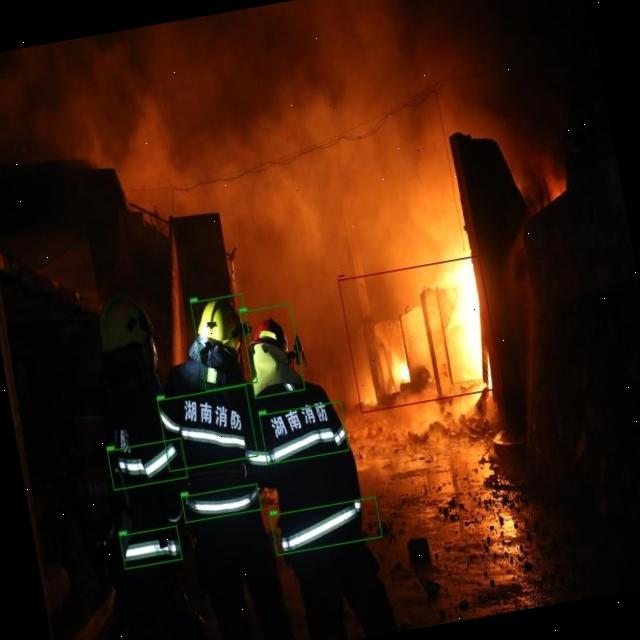fire: (338, 255, 502, 412)
